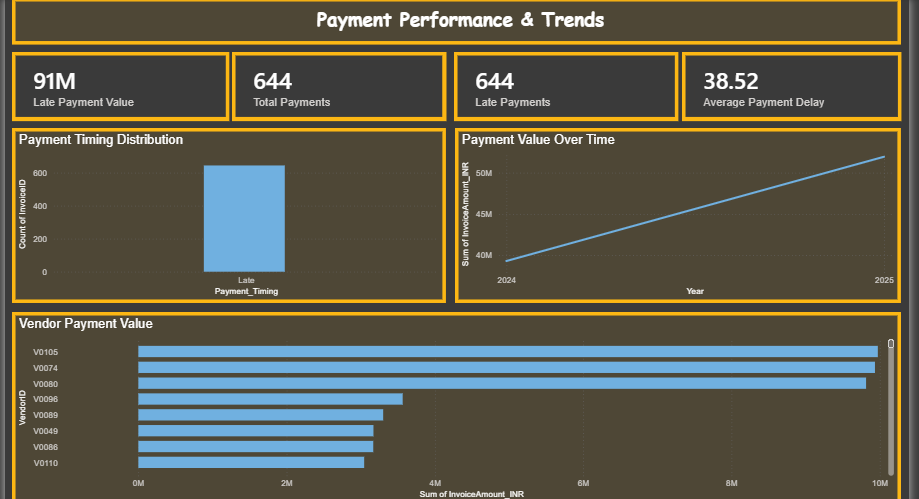

The page's visual inventory and layout, read from the dashboard file:
{"tool":"powerbi","page":{"name":"Payment Performance & Trends","canvas":[1280,720],"ordinal":3},"visuals":[{"type":"textbox","box":[10.1,0,1260,66.2],"z":0},{"type":"cardVisual","fields":{"Data":["CountNonNull(Invoices_Payments_Cleaned.InvoiceID)"]},"box":[636.5,76.3,318.2,97.9],"z":1000},{"type":"cardVisual","fields":{"Data":["Avg(Invoices_Payments_Cleaned.Payment_Delay_Days)"]},"box":[959,76.3,311,97.9],"z":2000},{"type":"cardVisual","fields":{"Data":["CountNonNull(Invoices_Payments_Cleaned.InvoiceID)"]},"box":[321.1,76.3,303.8,97.9],"z":3000},{"type":"cardVisual","fields":{"Data":["Sum(Invoices_Payments_Cleaned.InvoiceAmount_INR)"]},"box":[10.1,76.3,308.2,97.9],"z":4000},{"type":"columnChart","title":"Payment Timing Distribution","fields":{"Category":["Invoices_Payments_Cleaned.Payment_Timing"],"Y":["CountNonNull(Invoices_Payments_Cleaned.InvoiceID)"]},"box":[10.1,184.3,614.9,247.7],"z":5000},{"type":"lineChart","title":"Payment Value Over Time","fields":{"Category":["Invoices_Payments_Cleaned.PaymentDate.Variation.Date Hierarchy.Year","Invoices_Payments_Cleaned.PaymentDate.Variation.Date Hierarchy.Month"],"Y":["Sum(Invoices_Payments_Cleaned.InvoiceAmount_INR)"]},"box":[637.9,184.3,632.2,247.7],"z":6000},{"type":"barChart","title":"Vendor Payment Value","fields":{"Category":["Invoices_Payments_Cleaned.VendorID"],"Y":["Sum(Invoices_Payments_Cleaned.InvoiceAmount_INR)"]},"box":[10.1,445,1260,275],"z":7000}]}

Visuals, with their boxes on the page's 1280x720 design canvas (x1, y1, x2, y2). These are canvas units, not pixel positions in the 919x499 screenshot, which may show the page scaled, cropped or inside an application window:
textbox: {"left": 10, "top": 0, "right": 1270, "bottom": 66}
cardVisual - CountNonNull(Invoices_Payments_Cleaned.InvoiceID): {"left": 636, "top": 76, "right": 955, "bottom": 174}
cardVisual - Avg(Invoices_Payments_Cleaned.Payment_Delay_Days): {"left": 959, "top": 76, "right": 1270, "bottom": 174}
cardVisual - CountNonNull(Invoices_Payments_Cleaned.InvoiceID): {"left": 321, "top": 76, "right": 625, "bottom": 174}
cardVisual - Sum(Invoices_Payments_Cleaned.InvoiceAmount_INR): {"left": 10, "top": 76, "right": 318, "bottom": 174}
"Payment Timing Distribution" columnChart: {"left": 10, "top": 184, "right": 625, "bottom": 432}
"Payment Value Over Time" lineChart: {"left": 638, "top": 184, "right": 1270, "bottom": 432}
"Vendor Payment Value" barChart: {"left": 10, "top": 445, "right": 1270, "bottom": 720}
